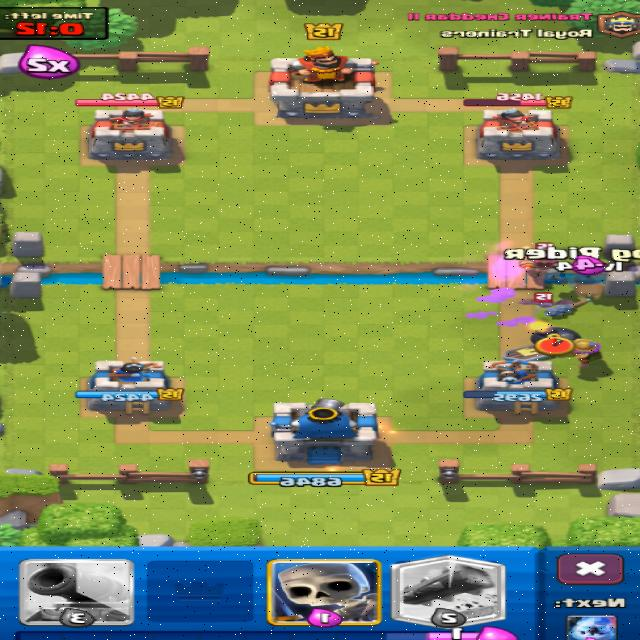Enemy-Bat: (521, 293, 572, 308)
Enemy-Firecracker: (521, 252, 567, 283), (536, 243, 553, 253)
Enemy-KingTower: (270, 47, 376, 117)
Enemy-PrincessTower: (88, 109, 180, 166), (477, 110, 561, 162)
Player-KingTower-Activated: (270, 398, 378, 465)
Player-Musketeer: (574, 339, 601, 367)
Player-PrincessTower: (76, 361, 182, 414), (466, 362, 572, 413)
